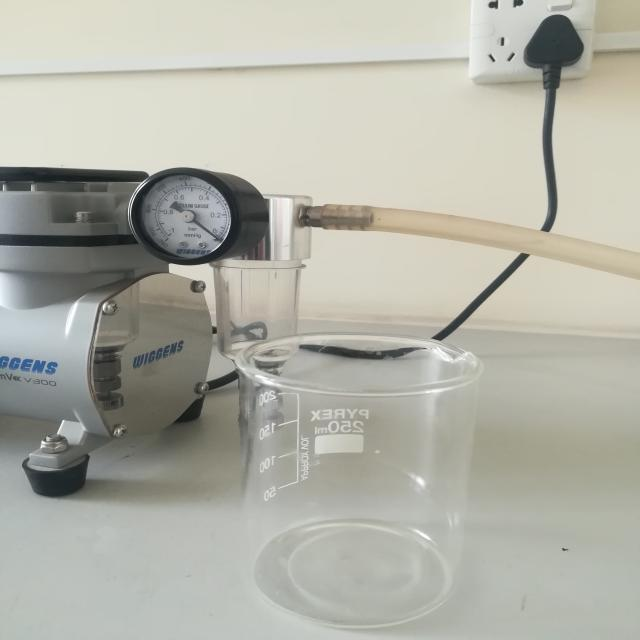Beaker: (209, 292, 509, 640)
